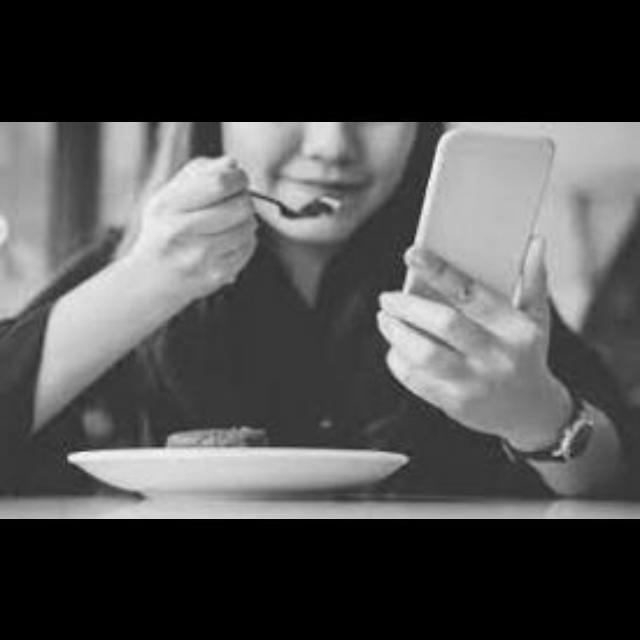fake: (391, 124, 594, 404)
